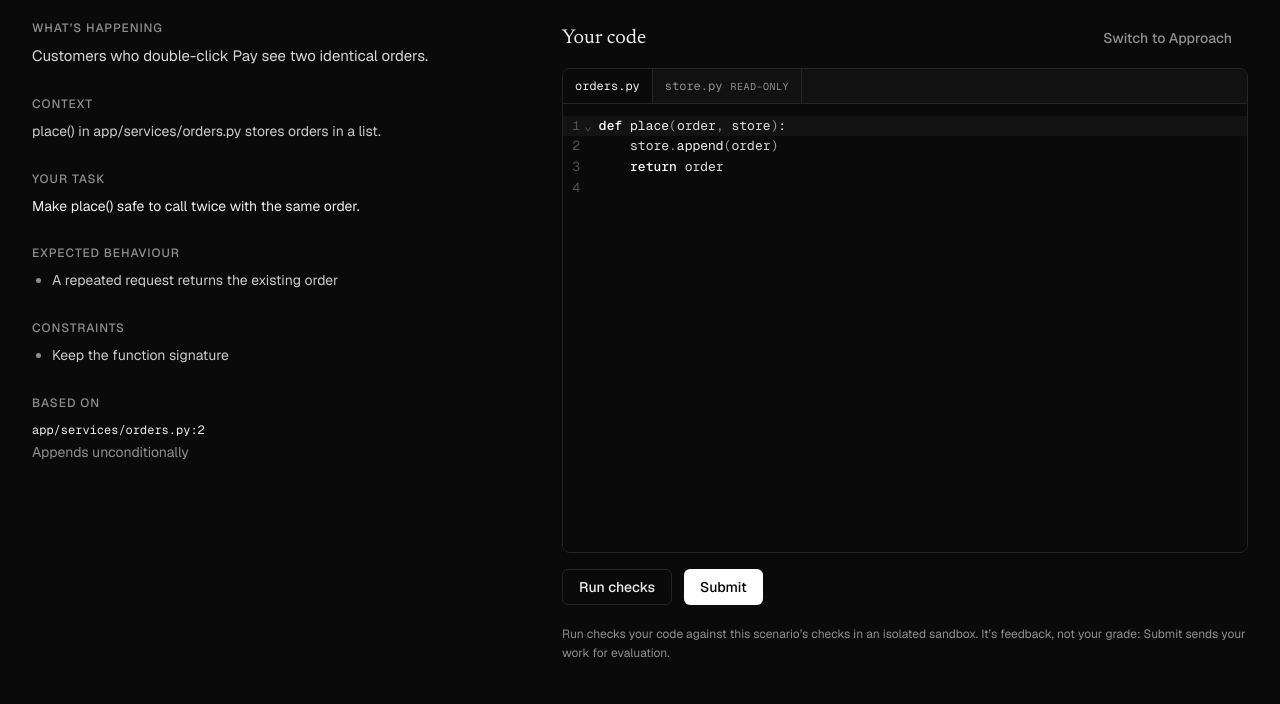
Test: Run shows objective results, check by check
The width and height of the screenshot is (1280, 704).
(page scrolled)
Click the button "Run checks" at x=617, y=586, box 562,568 -> 672,604
(page scrolled)
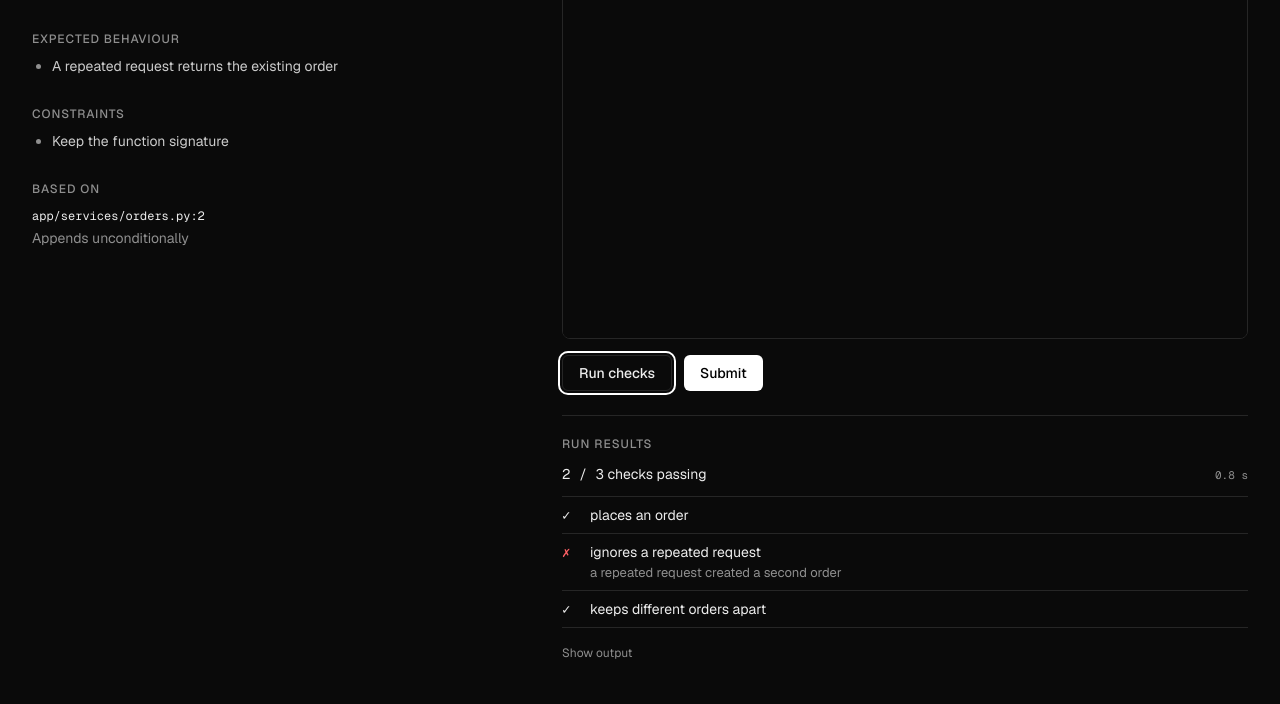
Expected: the text "checks passing" reads "2 / 3 checks passing", 562,464 -> 707,484
Expected: the list item "Failed:" shows "ignores a repeated request", 590,542 -> 761,560
Expected: the text "a repeated request created a second order" is shown, 590,564 -> 842,582
